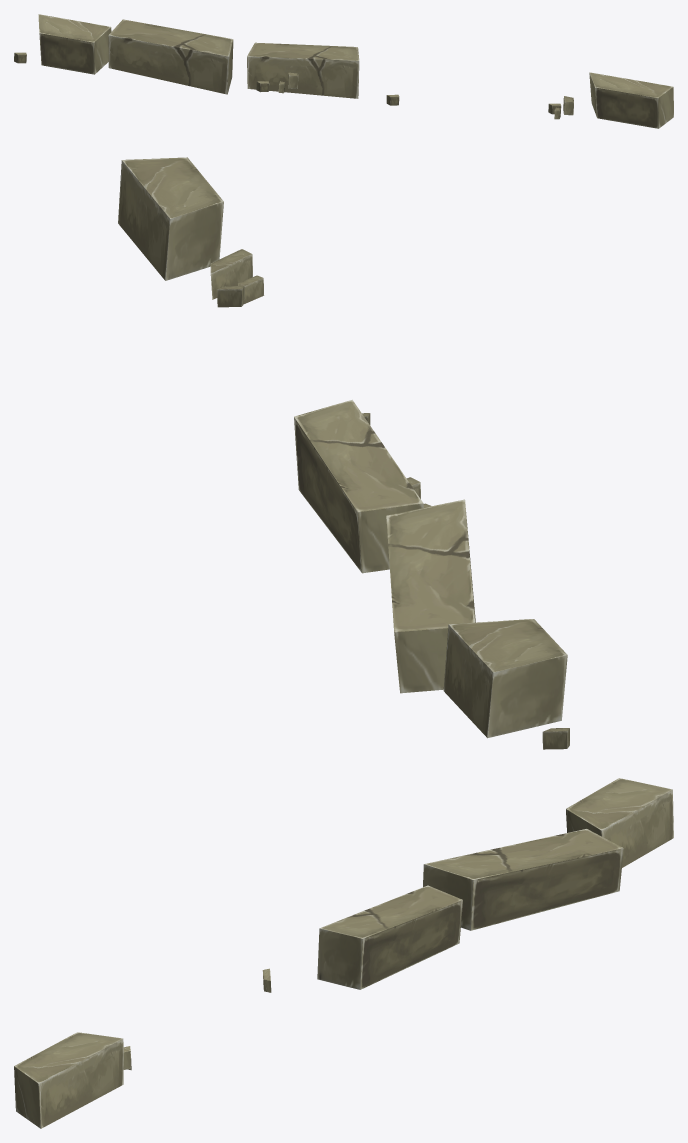
Rendered from wallrocks_diagonalbase2.fbx.
The picture shows the model from 3 angles, top to bottom: view 1: azimuth 30°, elevation 25°; view 2: azimuth 150°, elevation 25°; view 3: azimuth 270°, elevation 25°; orthographic projection. The views are drawn at different scales.
Visible parts, largest first — view 1: rocks17; view 2: rocks17; view 3: rocks17.
Part boxes in pixels (<box>): rocks17: <box>14,14,673,128</box>; rocks17: <box>118,157,569,749</box>; rocks17: <box>14,778,673,1128</box>.
Size of the model in its own units: 1.87 by 0.164 by 1.71.
